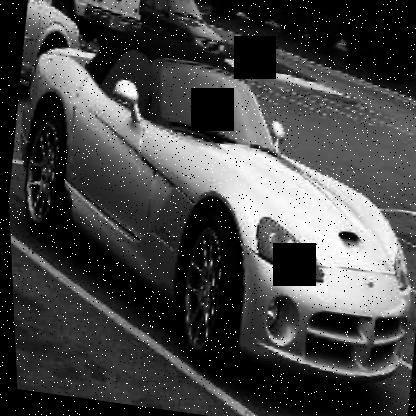not_emergency: (0, 24, 415, 411)
